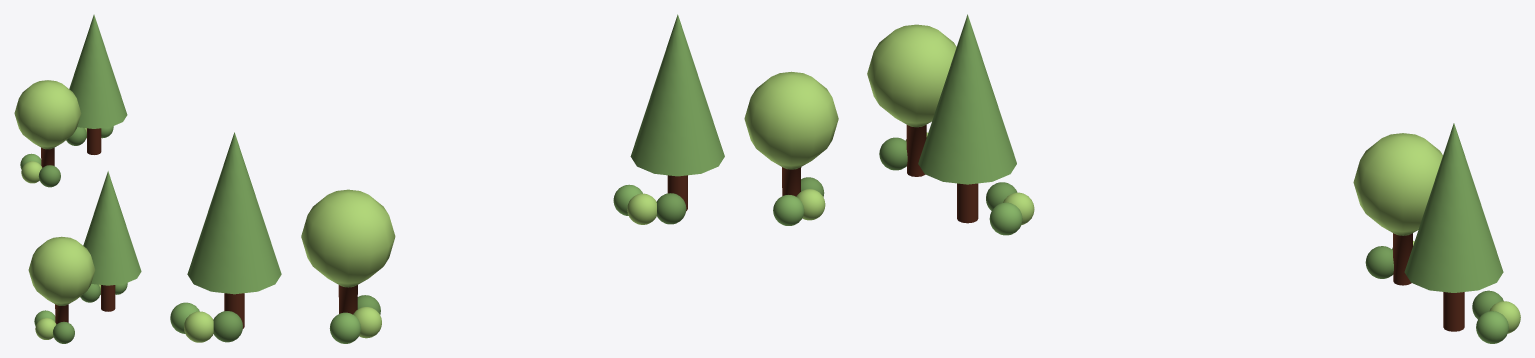
File: level_3_buildings_trees.fbx
3 renders of one model, left to right at view 1: azimuth 30°, elevation 25°; view 2: azimuth 150°, elevation 25°; view 3: azimuth 270°, elevation 25°, orthographic. The views are drawn at different scales.
Parts seen in each view (by area): view 1: Tree_1, Tree_1_2, Tree_2, Tree_2_2, Sphere_2_3, Sphere_2_5, Sphere_1_2, Sphere_1_4, Sphere_2_4, Sphere_2, Sphere_2_2, Sphere_4 (+2 smaller); view 2: Tree_1, Tree_1_2, Tree_2, Tree_2_2, Sphere_2_2, Sphere_4, Sphere_2, Sphere_1, Sphere_1_3, Sphere_2_4, Sphere_1_2, Sphere_1_4 (+2 smaller); view 3: Tree_1, Tree_1_2, Tree_2_2, Tree_2, Sphere_3, Sphere, Sphere_2_5, Sphere_2_3, Sphere_2, Sphere_2_4, Sphere_1, Sphere_1_3.
Boxes of the visible parts, x1=… form: Tree_1: x1=69, y1=14, x2=127, y2=154; Tree_1_2: x1=83, y1=171, x2=141, y2=311; Tree_2: x1=14, y1=80, x2=81, y2=167; Tree_2_2: x1=28, y1=236, x2=95, y2=324; Sphere_2_3: x1=38, y1=165, x2=60, y2=187; Sphere_2_5: x1=53, y1=321, x2=74, y2=343; Sphere_1_2: x1=21, y1=161, x2=42, y2=183; Sphere_1_4: x1=35, y1=318, x2=56, y2=339; Sphere_2_4: x1=80, y1=284, x2=100, y2=302; Sphere_2: x1=66, y1=127, x2=86, y2=145; Sphere_2_2: x1=20, y1=153, x2=41, y2=169; Sphere_4: x1=34, y1=310, x2=55, y2=325; Tree_1: x1=187, y1=132, x2=281, y2=328; Tree_1_2: x1=630, y1=14, x2=724, y2=211; Tree_2: x1=301, y1=189, x2=395, y2=314; Tree_2_2: x1=744, y1=71, x2=838, y2=196; Sphere_2_2: x1=329, y1=312, x2=360, y2=343; Sphere_4: x1=773, y1=195, x2=804, y2=225; Sphere_2: x1=213, y1=311, x2=242, y2=342; Sphere_1: x1=184, y1=311, x2=213, y2=342; Sphere_1_3: x1=627, y1=193, x2=656, y2=224; Sphere_2_4: x1=656, y1=193, x2=686, y2=224; Sphere_1_2: x1=353, y1=307, x2=381, y2=338; Sphere_1_4: x1=796, y1=189, x2=825, y2=220; Tree_1: x1=1404, y1=123, x2=1503, y2=331; Tree_1_2: x1=918, y1=14, x2=1016, y2=223; Tree_2_2: x1=867, y1=24, x2=956, y2=176; Tree_2: x1=1353, y1=133, x2=1442, y2=285; Sphere_3: x1=989, y1=202, x2=1022, y2=235; Sphere: x1=1476, y1=311, x2=1508, y2=343; Sphere_2_5: x1=879, y1=137, x2=907, y2=170; Sphere_2_3: x1=1365, y1=246, x2=1393, y2=278; Sphere_2: x1=1472, y1=290, x2=1503, y2=319; Sphere_2_4: x1=986, y1=182, x2=1017, y2=210; Sphere_1: x1=1489, y1=301, x2=1520, y2=333; Sphere_1_3: x1=1003, y1=192, x2=1034, y2=225.
Size of the model in its own units: 14.17 by 6.85 by 19.79.
